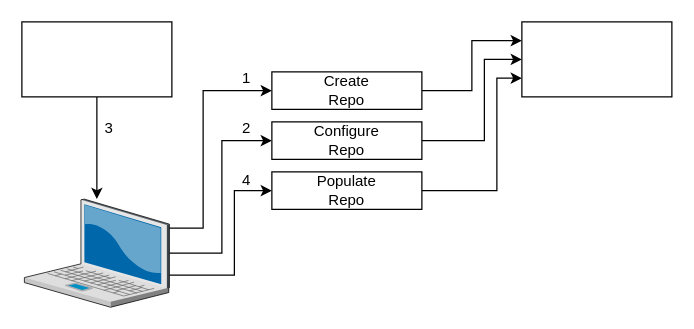
The diagram is 694 pixels wide and 329 high, and some of its shapes have lost their labels. The centre of each missing label's shape, as x and y in pixels:
"Agile Authoring Repo template" belongs at point 96,59.
"ComplianceAsCode Kubernetes Repo" belongs at point 596,59.
